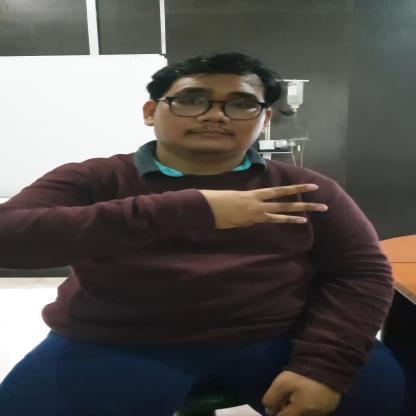E: (202, 182, 329, 230)
